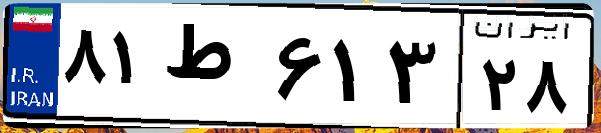1: (330, 28, 385, 110), (110, 28, 158, 98)
2: (475, 38, 525, 113)
3: (385, 28, 445, 110)
6: (270, 28, 330, 110)
8: (57, 26, 110, 100), (525, 38, 570, 115)
ط: (158, 20, 270, 120)
